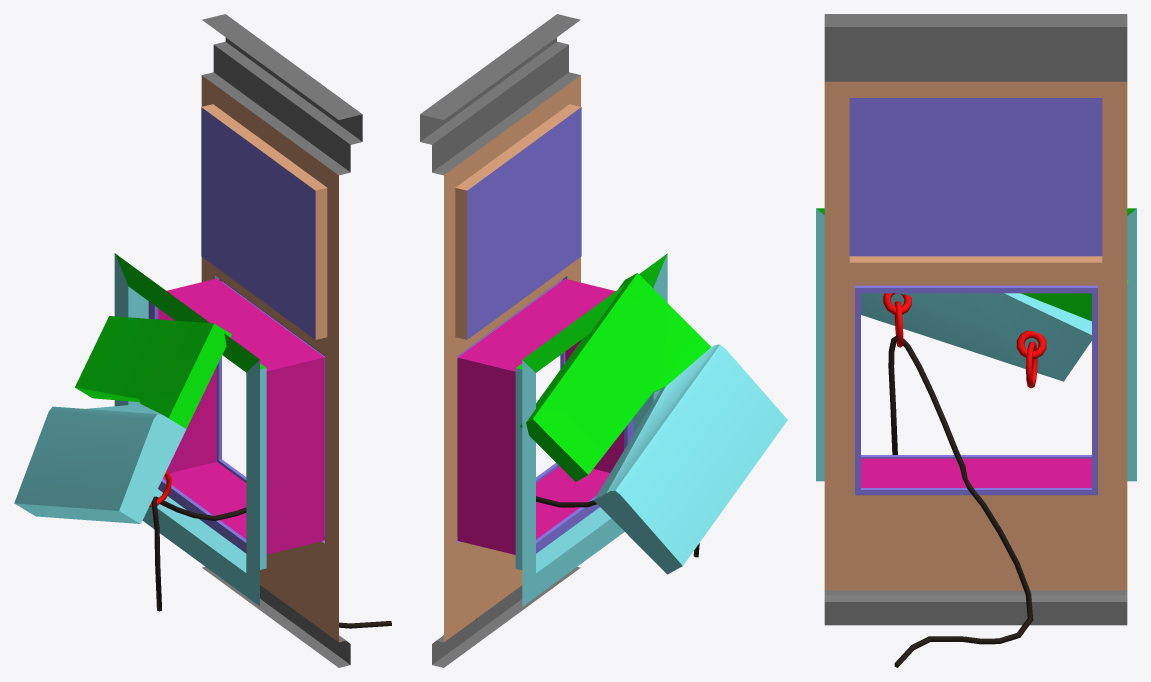
Rendered from Straight_Wall_Sabord.fbx.
3 renders of one model, left to right at view 1: azimuth 30°, elevation 25°; view 2: azimuth 150°, elevation 25°; view 3: azimuth 270°, elevation 25°, orthographic. The views are drawn at different scales.
Parts seen in each view (by area): view 1: wall_1x2 window; view 2: wall_1x2 window; view 3: wall_1x2 window.
Boxes of the visible parts, x1=… form: wall_1x2 window: x1=14, y1=14, x2=391, y2=667; wall_1x2 window: x1=420, y1=14, x2=787, y2=667; wall_1x2 window: x1=816, y1=14, x2=1136, y2=667.
Bounding box in the file's own units: 1.26 × 2.21 × 1.06.
